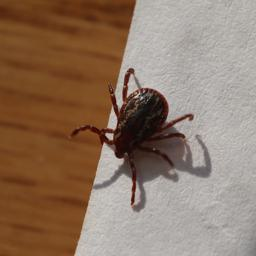Dermacentor variabilis: (82, 60, 200, 196)
